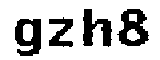8: (118, 4, 154, 49)
g: (9, 14, 44, 60)
h: (78, 3, 115, 51)
z: (45, 16, 78, 51)
